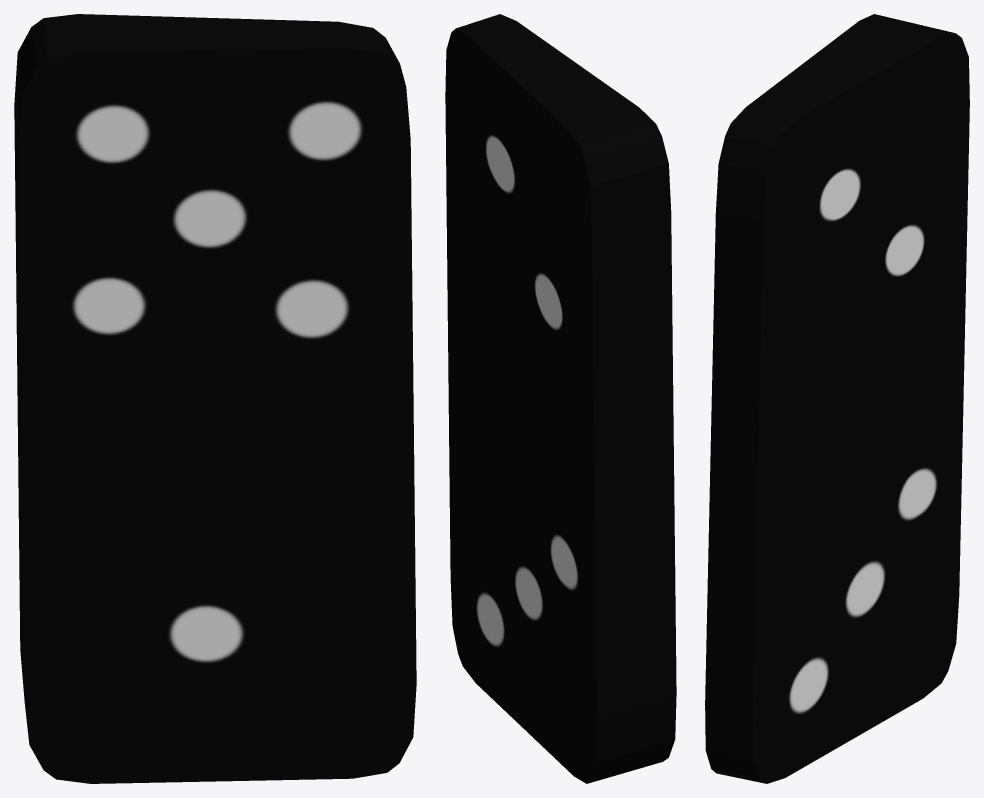
Rendered from domino.gltf.
The picture shows the model from 3 angles, left to right: view 1: azimuth 30°, elevation 25°; view 2: azimuth 150°, elevation 25°; view 3: azimuth 270°, elevation 25°; orthographic projection. The views are drawn at different scales.
Parts seen in each view (by area): view 1: domino.028; view 2: domino.028; view 3: domino.028.
Boxes of the visible parts, left/top/right/bottom form: domino.028: left=14, top=14, right=416, bottom=783; domino.028: left=445, top=14, right=676, bottom=783; domino.028: left=705, top=14, right=969, bottom=783.
Bounding box in the file's own units: 0.0762 × 0.1667 × 0.0603.
1 material, 1 textured.
